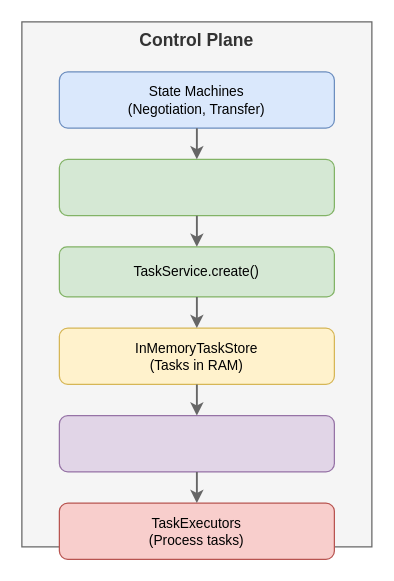
Image size: 394x581. Some labels were removed from this diagram. Each missing label, with the centre of its shape:
"TaskPollExecutor (Poll every x ms)" goes at pixel 196 443.
"TaskStateListeners (Listen to state changes)" goes at pixel 196 187.
